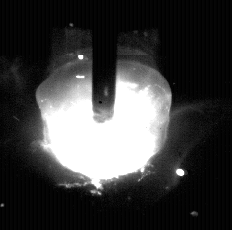arame: (93, 0, 117, 123)
poca: (42, 0, 169, 230)
